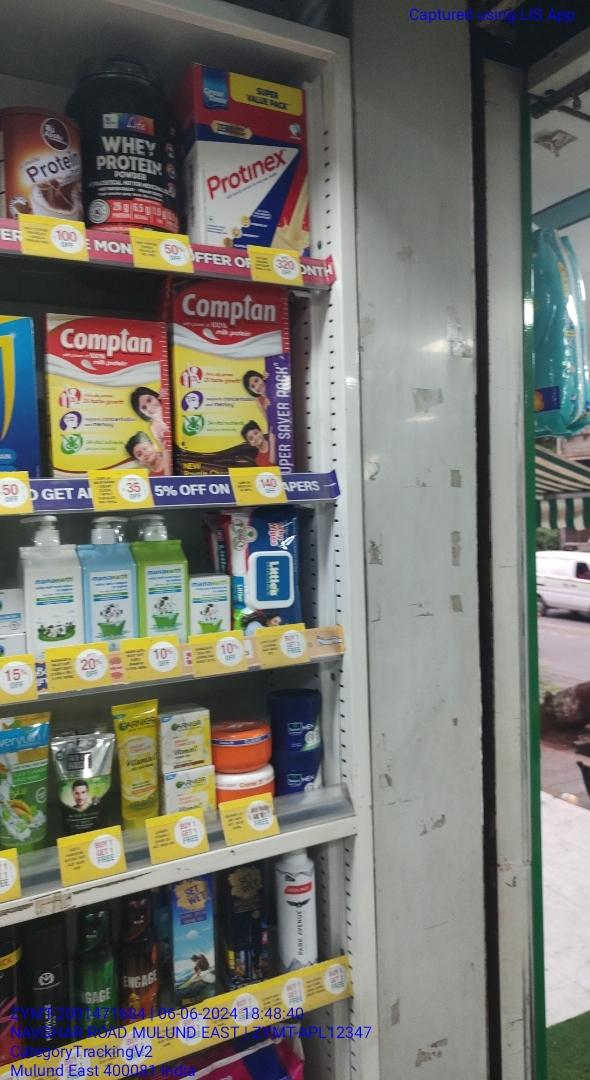COMPLAN_CHOCOLATE_1_KG_PACK: (169, 281, 293, 472)
COMPLAN_KESAR_BADAM_500_GMS_PACK: (48, 312, 163, 476)
